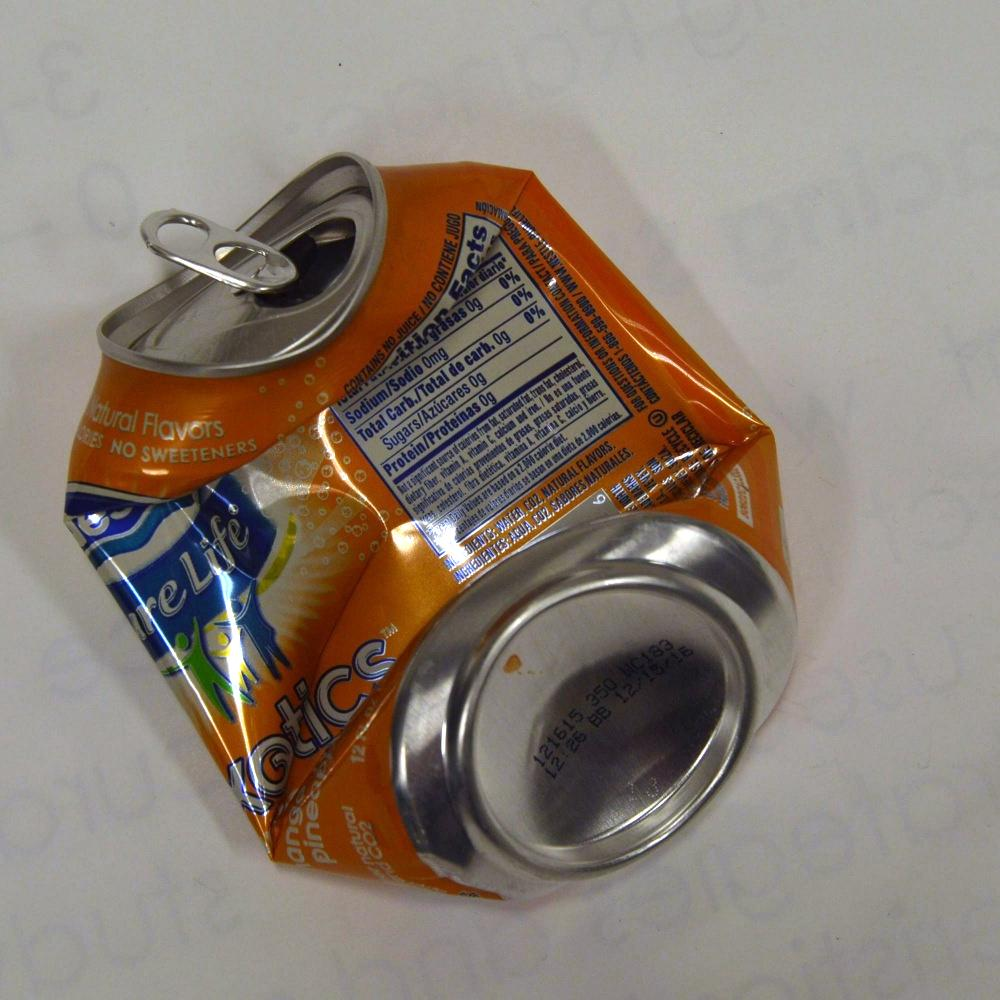Metal: (30, 132, 791, 915)
